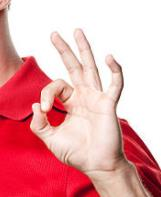left: (27, 25, 127, 165)
